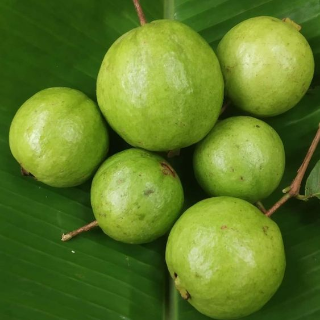oi: (94, 19, 223, 151), (166, 196, 287, 320), (9, 86, 109, 187), (89, 147, 185, 246), (218, 17, 313, 115)
